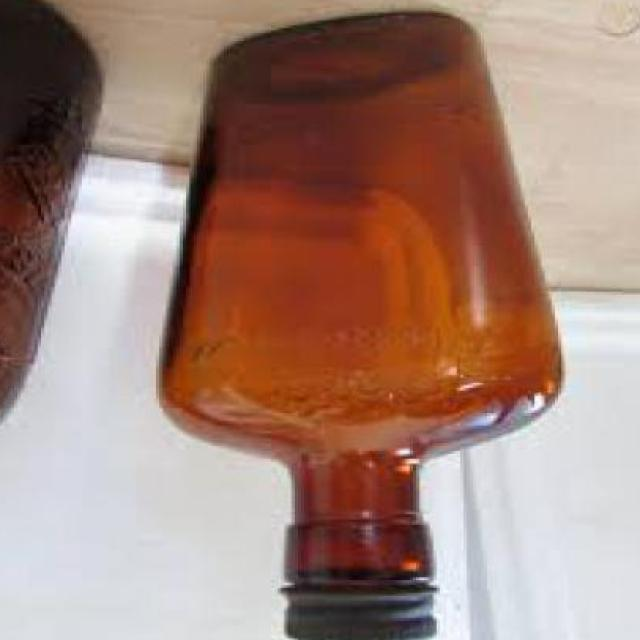kaca: (162, 16, 564, 590), (0, 0, 109, 431)
